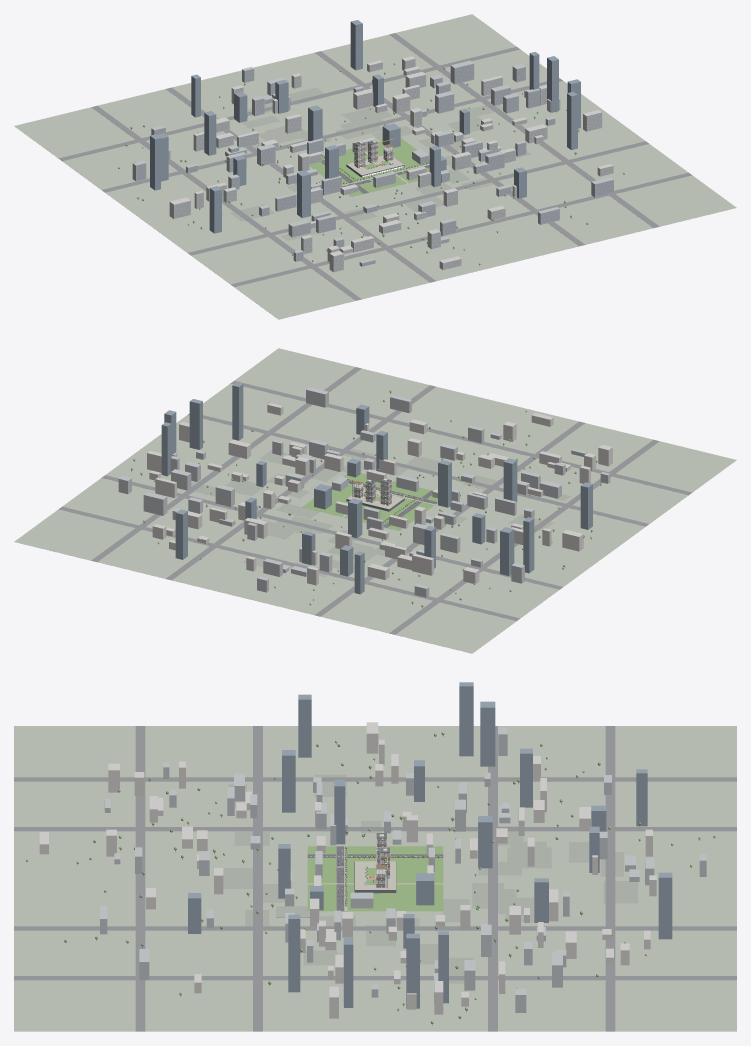
File: msk-complex.glb
3 views of the same model, one above another, from view 1: azimuth 30°, elevation 25°; view 2: azimuth 150°, elevation 25°; view 3: azimuth 270°, elevation 25° (orthographic). The views are drawn at different scales.
Bounding box in the file's own units: 1600 × 180 × 1600.
